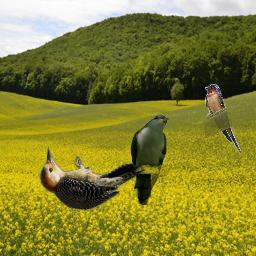Cuckoo: (130, 114, 169, 205)
Swallow: (205, 84, 241, 153)
Woodpecker: (31, 144, 151, 212)
